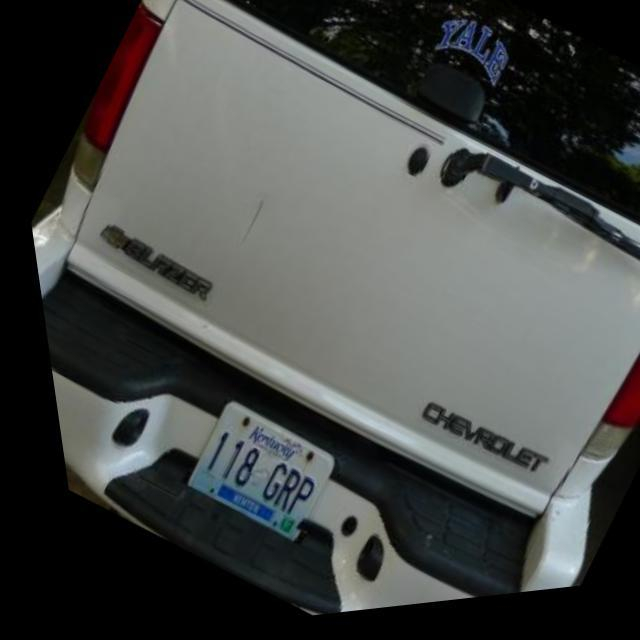license_plate: (158, 392, 336, 562)
